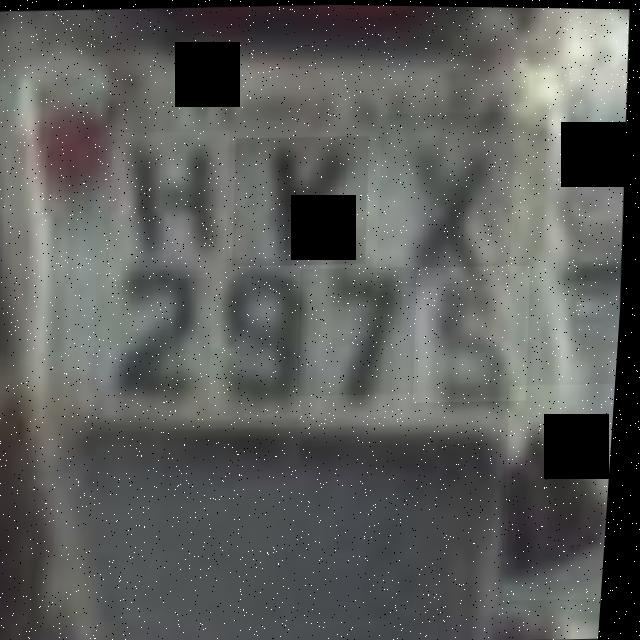2: (92, 268, 221, 414)
5: (413, 262, 539, 402)
7: (298, 264, 428, 396)
8: (204, 254, 330, 415)
H: (107, 128, 236, 281)
K: (231, 133, 375, 266)
N: (503, 379, 620, 599)
X: (374, 109, 522, 287)
